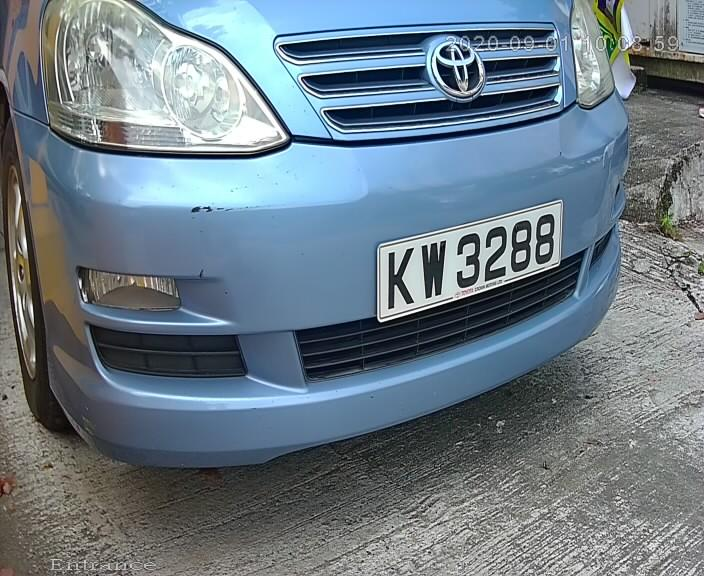License Plate: (378, 201, 563, 319)
